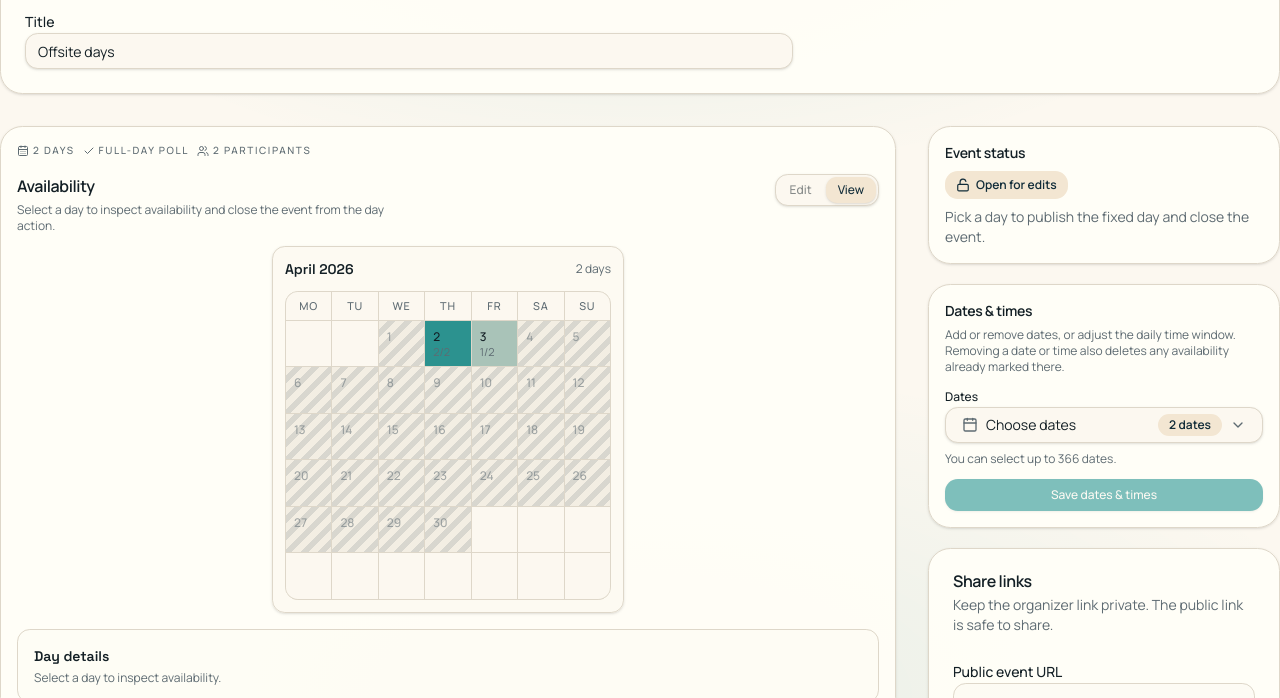
Test: ManageEventClient › closes a full-day event from the selected day
This screenshot has width=1280, height=698.
Expected: the text "Full-day poll" is shown, [83,143,189,158]
Click the button named "Thu, Apr 2 · 2/2 available": (448, 344) [425,321,471,366]
(page scrolled)
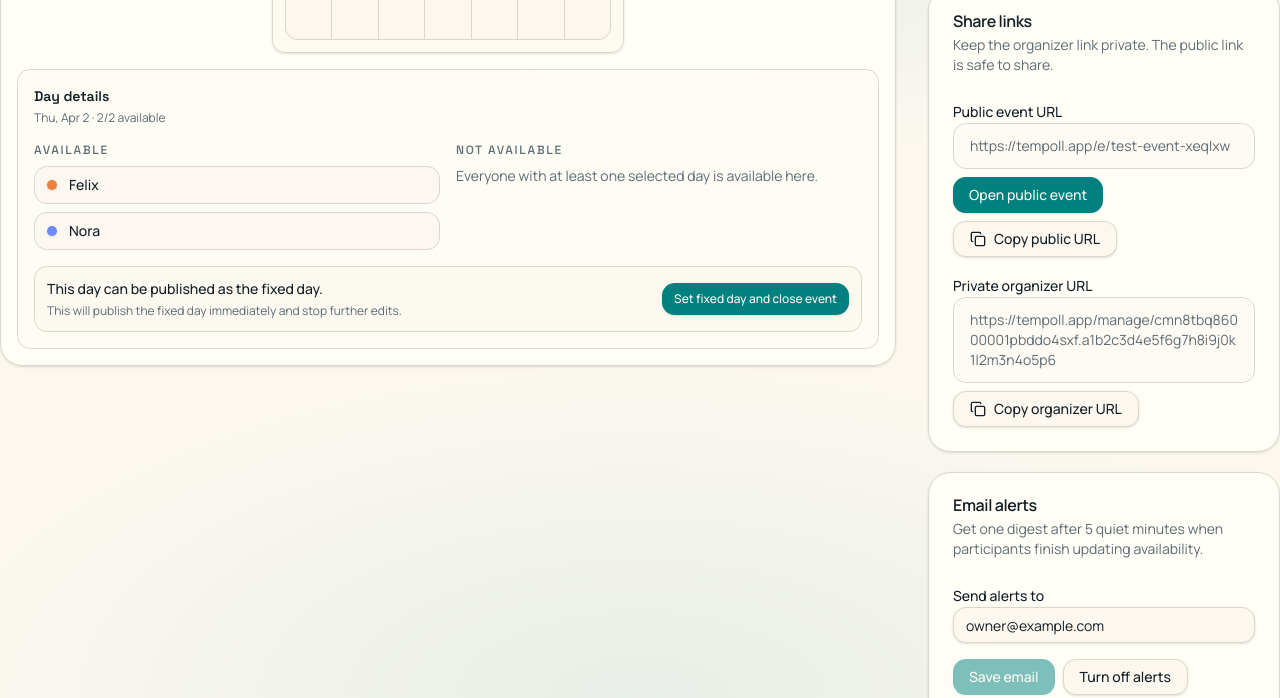
Expected: the text "This day can be published as the fixed day." is shown, [47,279,323,298]
Click the button "Set fixed day and close event": (756, 299) [662,283,849,315]
(page scrolled)
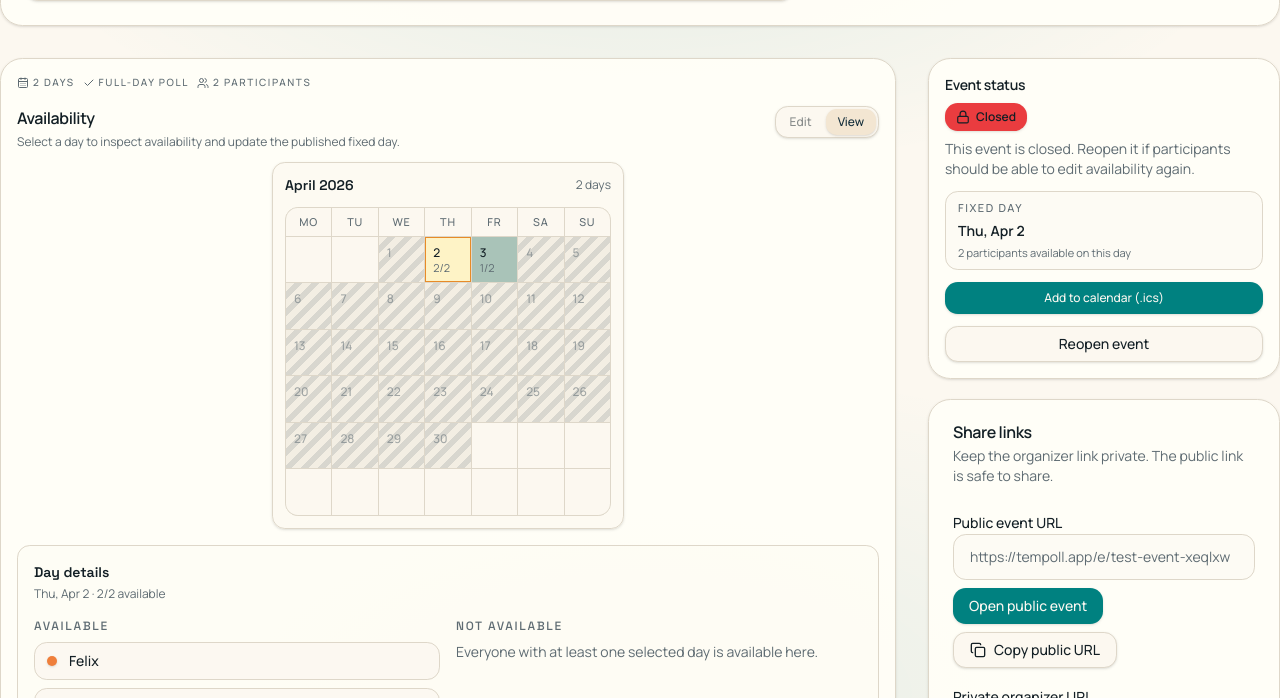
Expected: the text "Closed" is shown, [945,103,1027,131]
Expected: the link "Add to calendar (.ics)" is shown, [945,282,1263,314]
